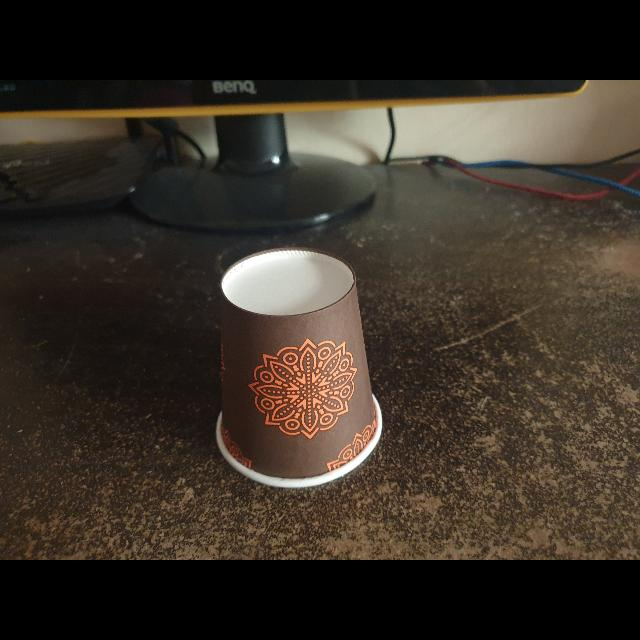trash: (203, 244, 393, 493)
